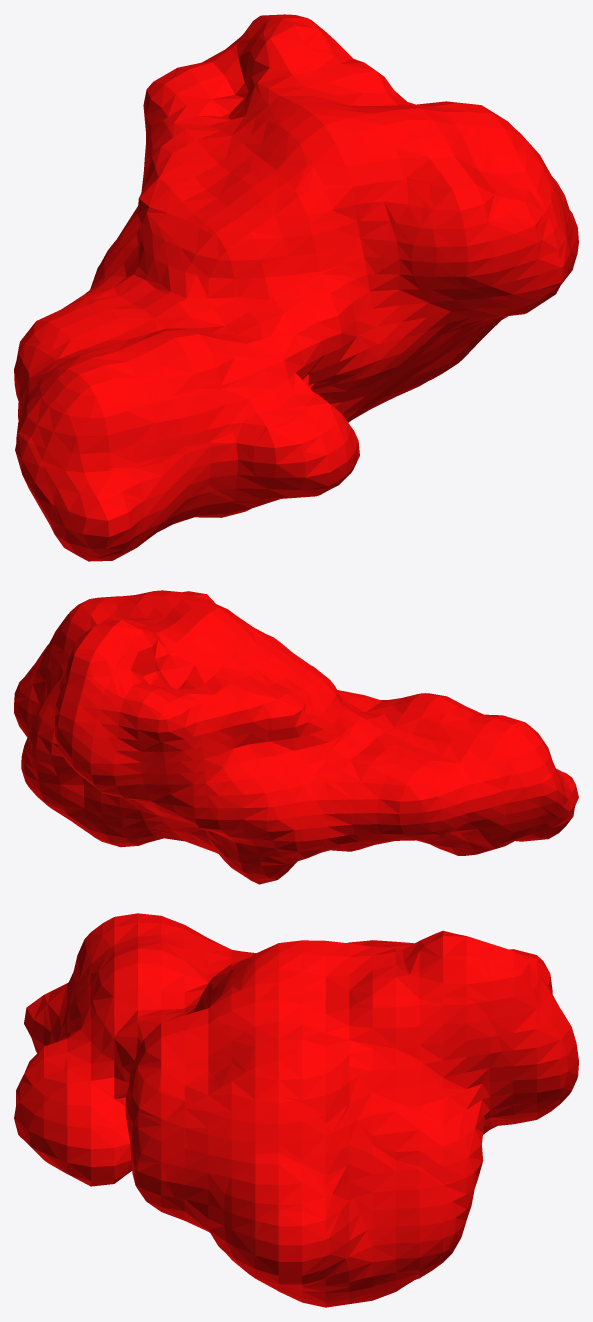
File: Ras_related_protein_Rab_3A_coarse.dae
3 views of the same model, one above another, from view 1: azimuth 30°, elevation 25°; view 2: azimuth 150°, elevation 25°; view 3: azimuth 270°, elevation 25° (orthographic). The views are drawn at different scales.
Parts seen in each view (by area): view 1: Ras_related_protein_Rab_3A; view 2: Ras_related_protein_Rab_3A; view 3: Ras_related_protein_Rab_3A.
Boxes of the visible parts, x1=… form: Ras_related_protein_Rab_3A: x1=14, y1=14, x2=578, y2=561; Ras_related_protein_Rab_3A: x1=14, y1=590, x2=578, y2=884; Ras_related_protein_Rab_3A: x1=14, y1=913, x2=578, y2=1307.
Size of the model in its own units: 83.42 by 44.36 by 62.26.
